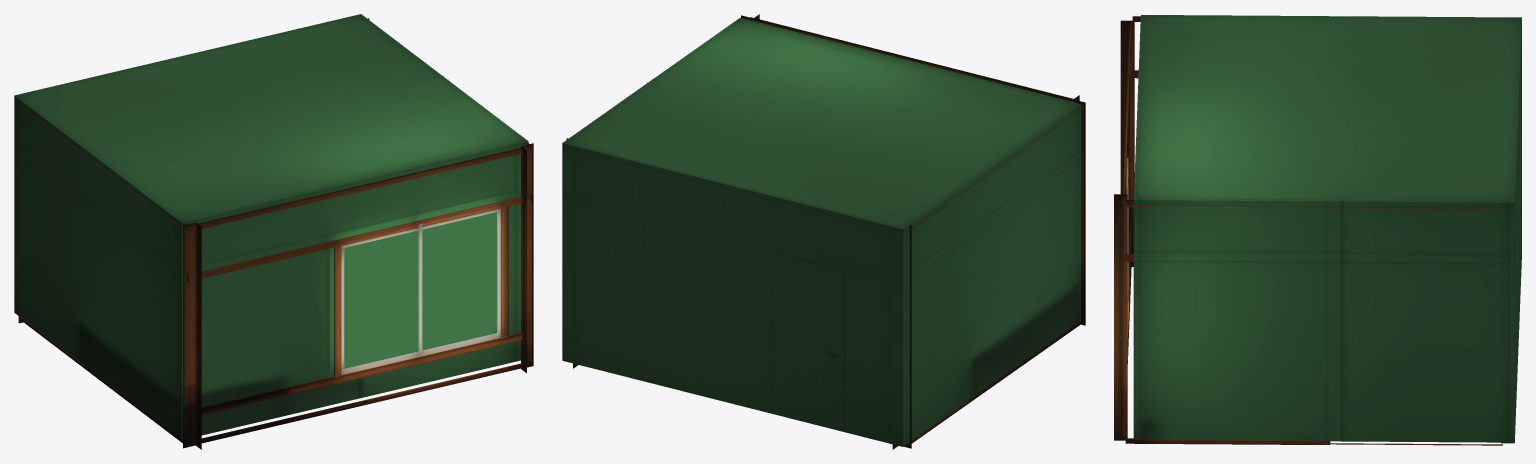
Rendered from SpookyAutoChessGreen.glb.
The picture shows the model from 3 angles, left to right: view 1: azimuth 30°, elevation 25°; view 2: azimuth 150°, elevation 25°; view 3: azimuth 270°, elevation 25°; orthographic projection. The views are drawn at different scales.
Parts seen in each view (by area): view 1: 24_Mesh2_0.2_0_0, 24_Mesh1_0.2_0_0_root_root; view 2: 24_Mesh2_0.2_0_0, 24_Mesh1_0.2_0_0_root_root; view 3: 24_Mesh2_0.2_0_0, 24_Mesh1_0.2_0_0_root_root.
Boxes of the visible parts, x1,y1,x2,y2 form: 24_Mesh2_0.2_0_0: (14, 14, 528, 438); 24_Mesh1_0.2_0_0_root_root: (18, 18, 533, 449); 24_Mesh2_0.2_0_0: (562, 18, 1080, 446); 24_Mesh1_0.2_0_0_root_root: (566, 14, 1085, 449); 24_Mesh2_0.2_0_0: (1133, 15, 1521, 442); 24_Mesh1_0.2_0_0_root_root: (1114, 16, 1514, 445).
Size of the model in its own units: 731 by 443 by 664.
31 materials, 30 textured.
